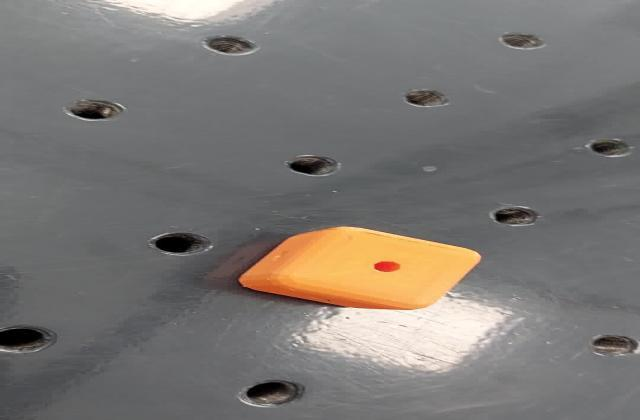cube: (224, 224, 491, 311)
